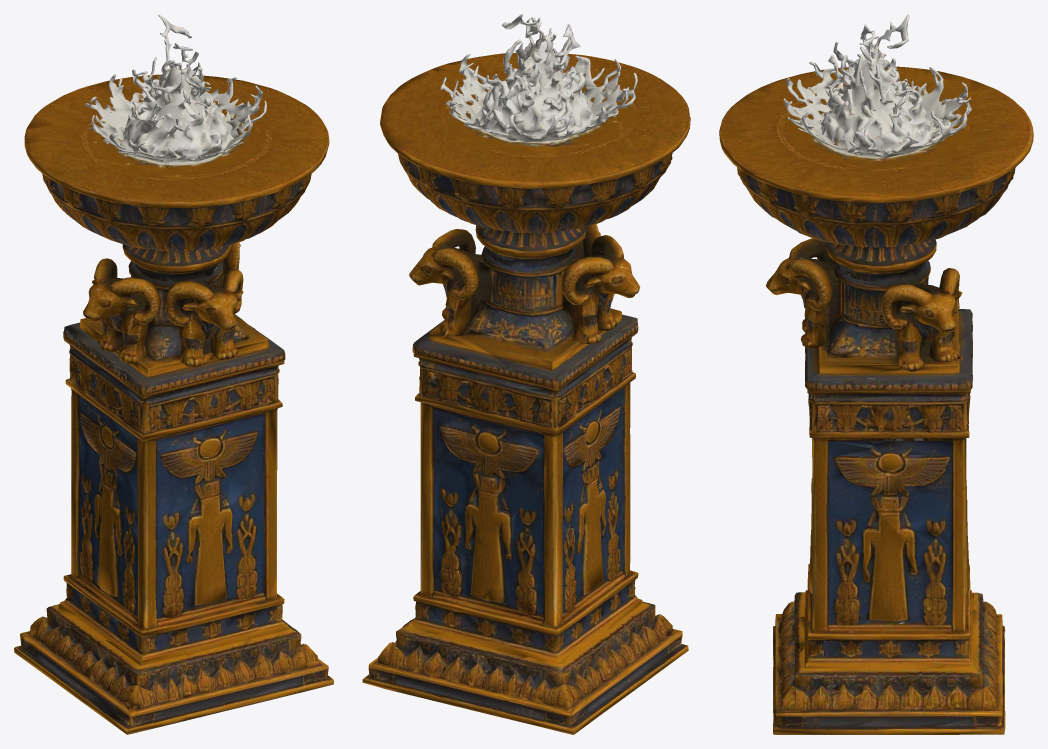
File: المباخر-lod1.glb
3 views of the same model, side by side, from view 1: azimuth 30°, elevation 25°; view 2: azimuth 150°, elevation 25°; view 3: azimuth 270°, elevation 25° (orthographic). The views are drawn at different scales.
Parts seen in each view (by area): view 1: geometry_0; view 2: geometry_0; view 3: geometry_0.
Boxes of the visible parts, <box> form: geometry_0: <box>14,14,333,734</box>; geometry_0: <box>362,14,690,734</box>; geometry_0: <box>719,14,1033,734</box>.
Size of the model in its own units: 0.4241 by 1 by 0.4275.
1 material, 1 textured.
